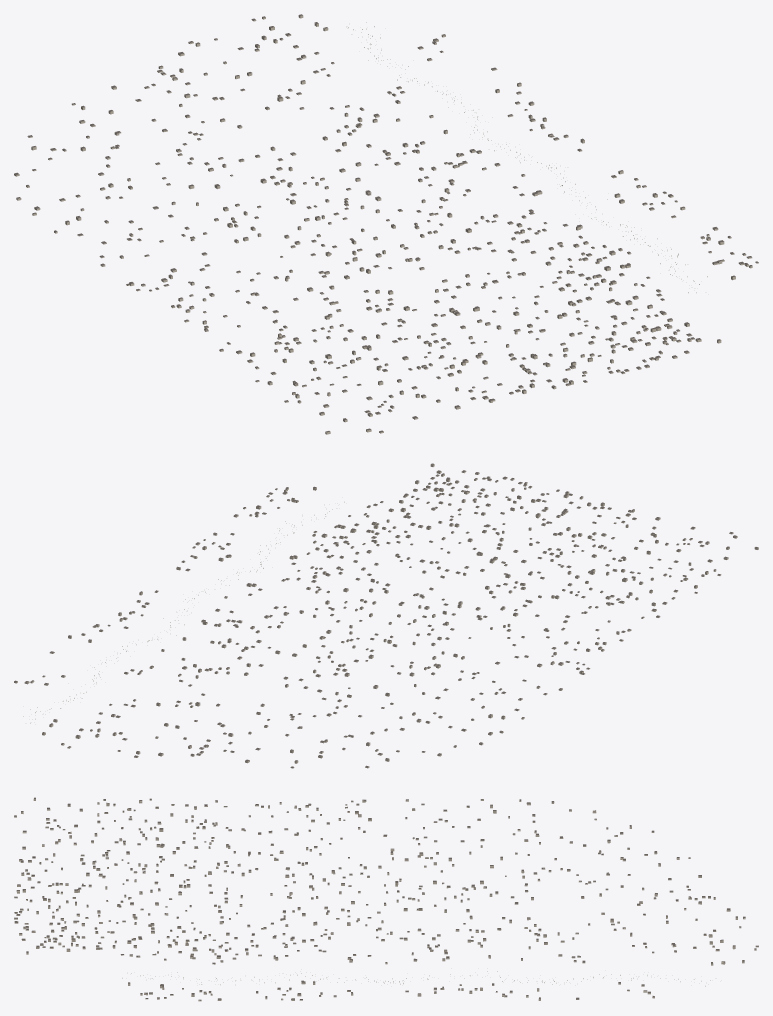
The model's file is SM_RiyadhNights_Far_City_3.fbx.
3 renders of one model, top to bottom at view 1: azimuth 30°, elevation 25°; view 2: azimuth 150°, elevation 25°; view 3: azimuth 270°, elevation 25°, orthographic. The views are drawn at different scales.
Parts seen in each view (by area): view 1: SM_RiyadhNights_Far_City_3; view 2: SM_RiyadhNights_Far_City_3; view 3: SM_RiyadhNights_Far_City_3.
Boxes of the visible parts, bbox=[...] form: SM_RiyadhNights_Far_City_3: bbox=[14, 14, 758, 434]; SM_RiyadhNights_Far_City_3: bbox=[14, 463, 758, 768]; SM_RiyadhNights_Far_City_3: bbox=[14, 797, 758, 1001].
Size of the model in its own units: 472304 by 8987 by 737359.
